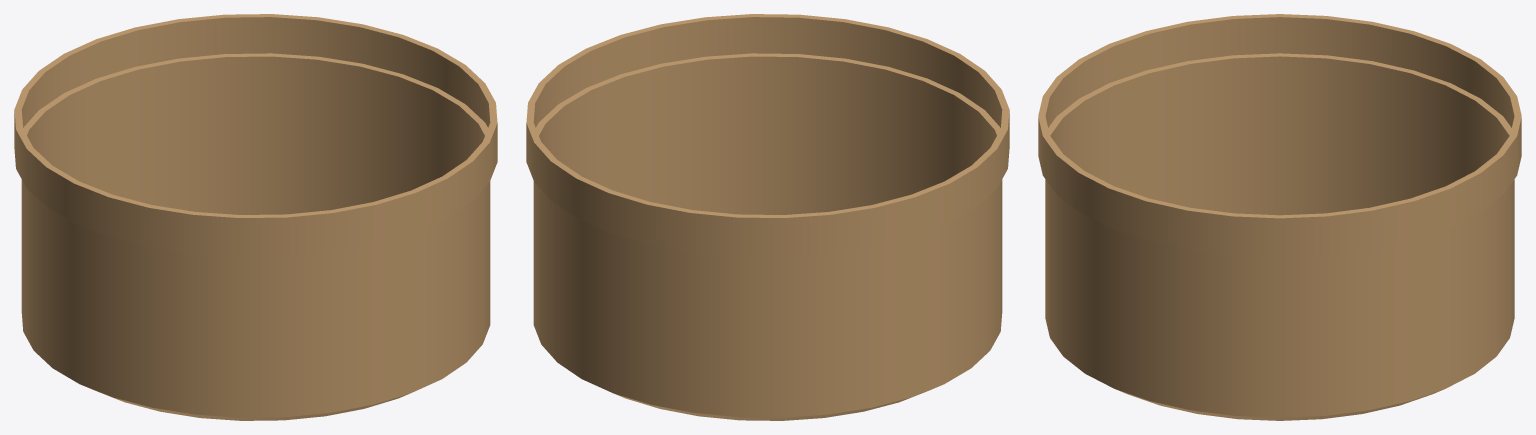
Rendered from LightBulb_mesh.fbx.
The picture shows the model from 3 angles, left to right: view 1: azimuth 30°, elevation 25°; view 2: azimuth 150°, elevation 25°; view 3: azimuth 270°, elevation 25°; orthographic projection.
Visible parts, largest first — view 1: LightBulb_mesh; view 2: LightBulb_mesh; view 3: LightBulb_mesh.
Boxes of the visible parts, box(x1,y1,x2,y2) form: LightBulb_mesh: box(14, 14, 497, 420); LightBulb_mesh: box(526, 14, 1009, 420); LightBulb_mesh: box(1038, 14, 1521, 420).
Size of the model in its own units: 6.3 by 3.07 by 6.3.
